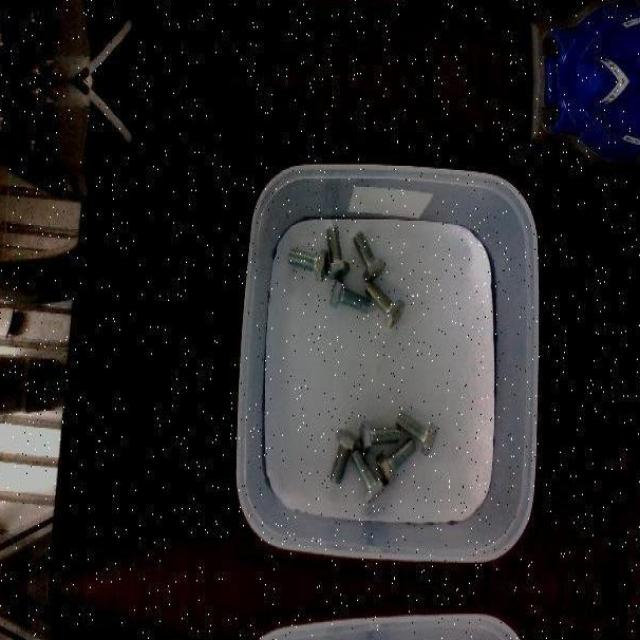screw: (376, 436, 417, 484), (352, 446, 386, 502), (396, 410, 439, 454), (366, 281, 406, 327), (352, 230, 386, 283), (329, 428, 357, 484), (330, 276, 370, 314), (359, 418, 399, 454), (326, 225, 351, 278), (288, 248, 328, 280)
